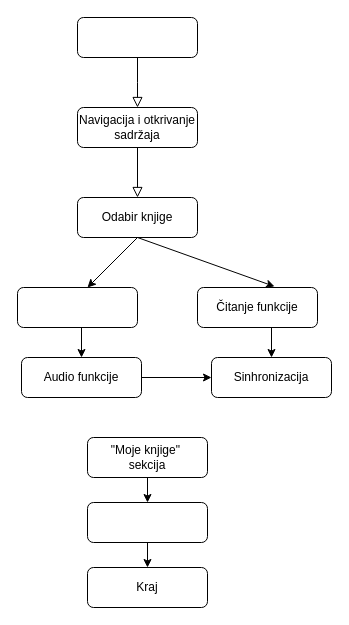
This 349x625 diagram has some shape labels left out. The shapes that lost their labels are listed below. From the top down, each one's centre as x and y in pixels, then its label:
the point at 137,37: Start
the point at 77,307: Audio mod
the point at 147,522: Vizualni stil/ UI podešavanja
